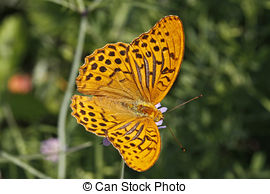Argyreus hyperbius: (64, 12, 202, 173)
butterfly: (66, 14, 204, 175)
